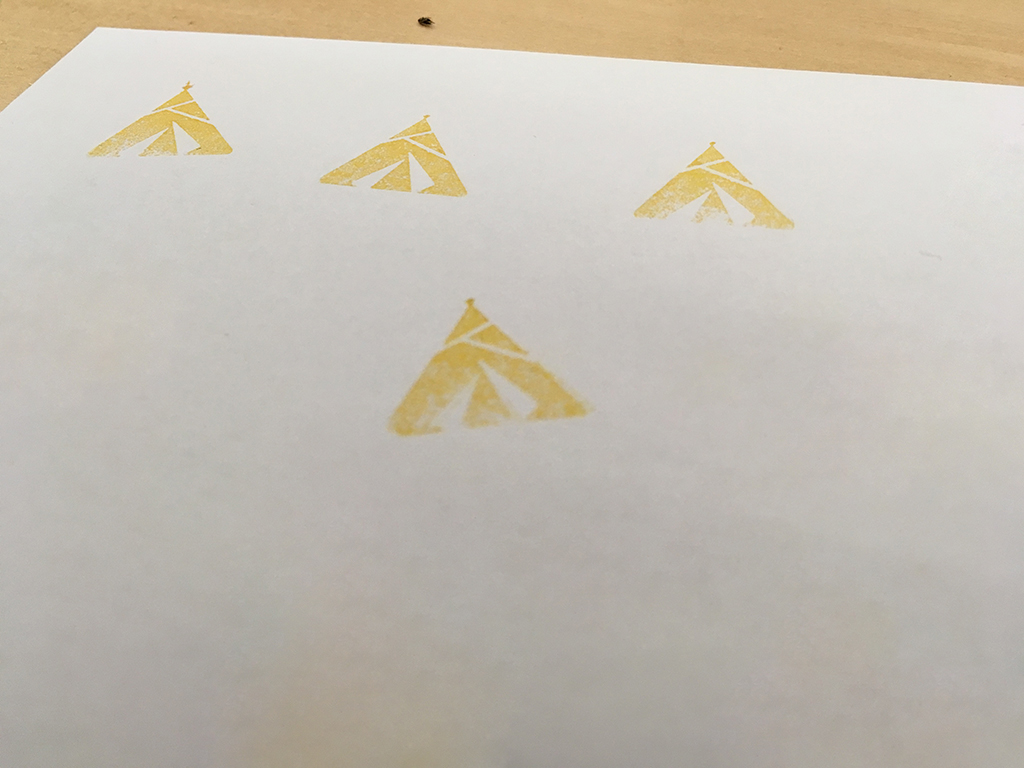tent: (386, 283, 614, 446), (617, 136, 813, 247), (312, 104, 476, 209), (78, 72, 243, 166)
